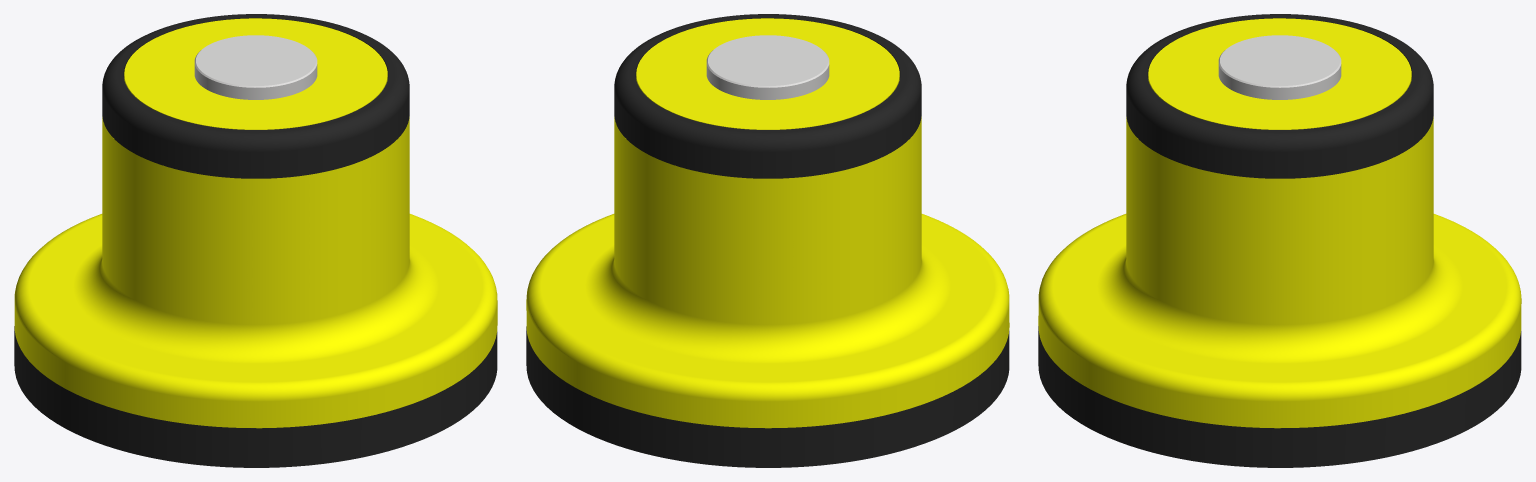
3 views of the same model, side by side, from view 1: azimuth 30°, elevation 25°; view 2: azimuth 150°, elevation 25°; view 3: azimuth 270°, elevation 25° (orthographic).
Visible parts, largest first — view 1: Base.002; view 2: Base.002; view 3: Base.002.
Part boxes in pixels (bbox=[...]): Base.002: bbox=[14, 14, 497, 467]; Base.002: bbox=[526, 14, 1009, 467]; Base.002: bbox=[1038, 14, 1521, 467].
Bounding box in the file's own units: 0.165 × 0.165 × 0.1151.
